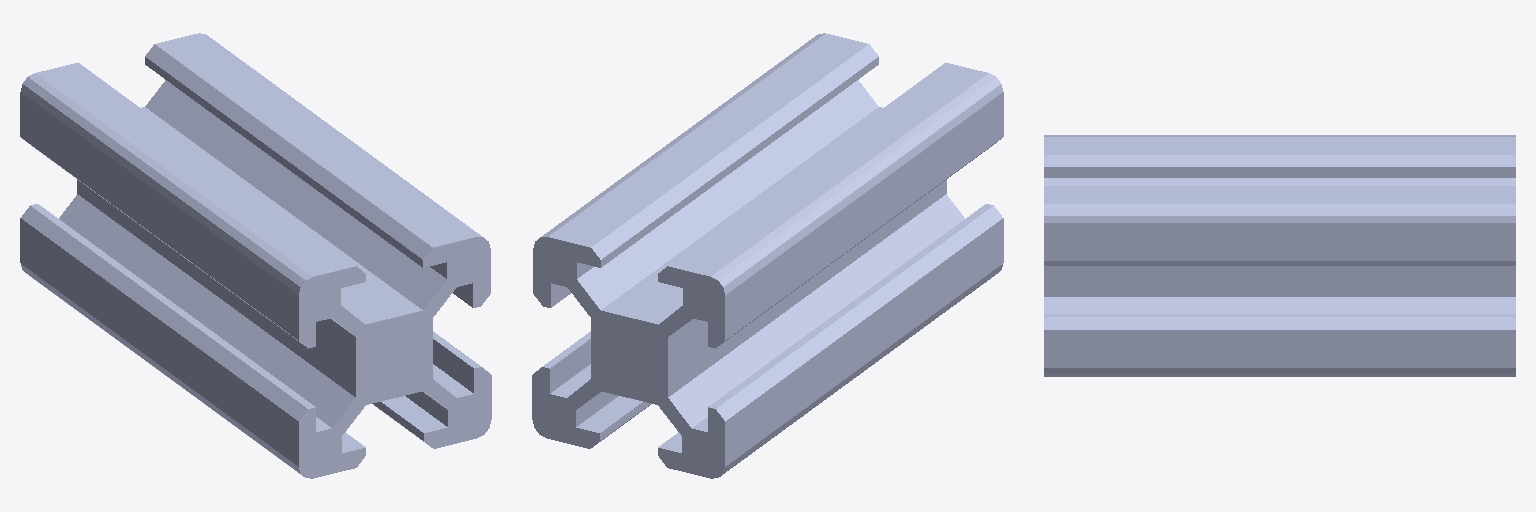
robot.urdf — Part2.SLDPRT:
<?xml version="1.0" encoding="utf-8"?>
<!-- This URDF was automatically created by SolidWorks to URDF Exporter! Originally created by [author] ([email redacted]) 
     Commit Version: 1.5.1-0-g916b5db  Build Version: 1.5.7152.31018
     For more information, please see http://wiki.ros.org/sw_urdf_exporter -->
<robot
  name="Part2.SLDPRT">
  <link
    name="alu_prof_large_black">
    <inertial>
      <origin
        xyz="-0.01842 -0.05 -0.018504"
        rpy="0 0 0" />
      <mass
        value="0.186" />
      <inertia
        ixx="7.5037E-05"
        ixy="2.73105966834574E-21"
        ixz="2.189E-08"
        iyy="2.2806E-05"
        iyz="2.75135428616951E-21"
        izz="7.4983E-05" />
    </inertial>
    <visual>
      <origin
        xyz="0 0 0"
        rpy="1.5707963267949 0 0" />
      <geometry>
        <mesh
          filename="package://suii_description/Field/objects/meshes/alu_prof_large_black.dae" />
      </geometry>
      <material
        name="">
        <color
          rgba="0.79216 0.81961 0.93333 1" />
        <texture
          filename="package://suii_description/Field/objects/textures/" />
      </material>
    </visual>
    <collision>
      <origin
        xyz="0 0 0"
        rpy="1.5707963267949 0 0" />
      <geometry>
        <mesh
          filename="package://suii_description/Field/objects/meshes/alu_prof_large_black.dae" />
      </geometry>
    </collision>
    <ode>
      <mu>-dInfinity</mu>
      <mu2>-dInfinity</mu2>
      <fdir1>1 0 0</fdir1>
      <slip1>0</slip1>
      <slip2>0</slip2>
    </ode>
    <kinematic>true</kinematic>
  </link>
</robot>

--- Facts derived from the render (not from the file) ---
The picture shows the robot from 3 angles, left to right: view 1: azimuth 30°, elevation 25°; view 2: azimuth 150°, elevation 25°; view 3: azimuth 270°, elevation 25°; orthographic projection.
Model Part2.SLDPRT with 1 links and 0 joints (none), rooted at alu_prof_large_black, posed all joints at 0.
Visible links, largest first — view 1: alu_prof_large_black; view 2: alu_prof_large_black; view 3: alu_prof_large_black.
Boxes of the visible links, x1,y1,x2,y2 form: alu_prof_large_black: (20, 33, 491, 478); alu_prof_large_black: (532, 33, 1003, 478); alu_prof_large_black: (1044, 135, 1515, 376).
Size in the robot's own frame: 0.04 by 0.1 by 0.04 metres.
1 mesh visuals loaded from 1 distinct referenced files (1 Collada DAE).
